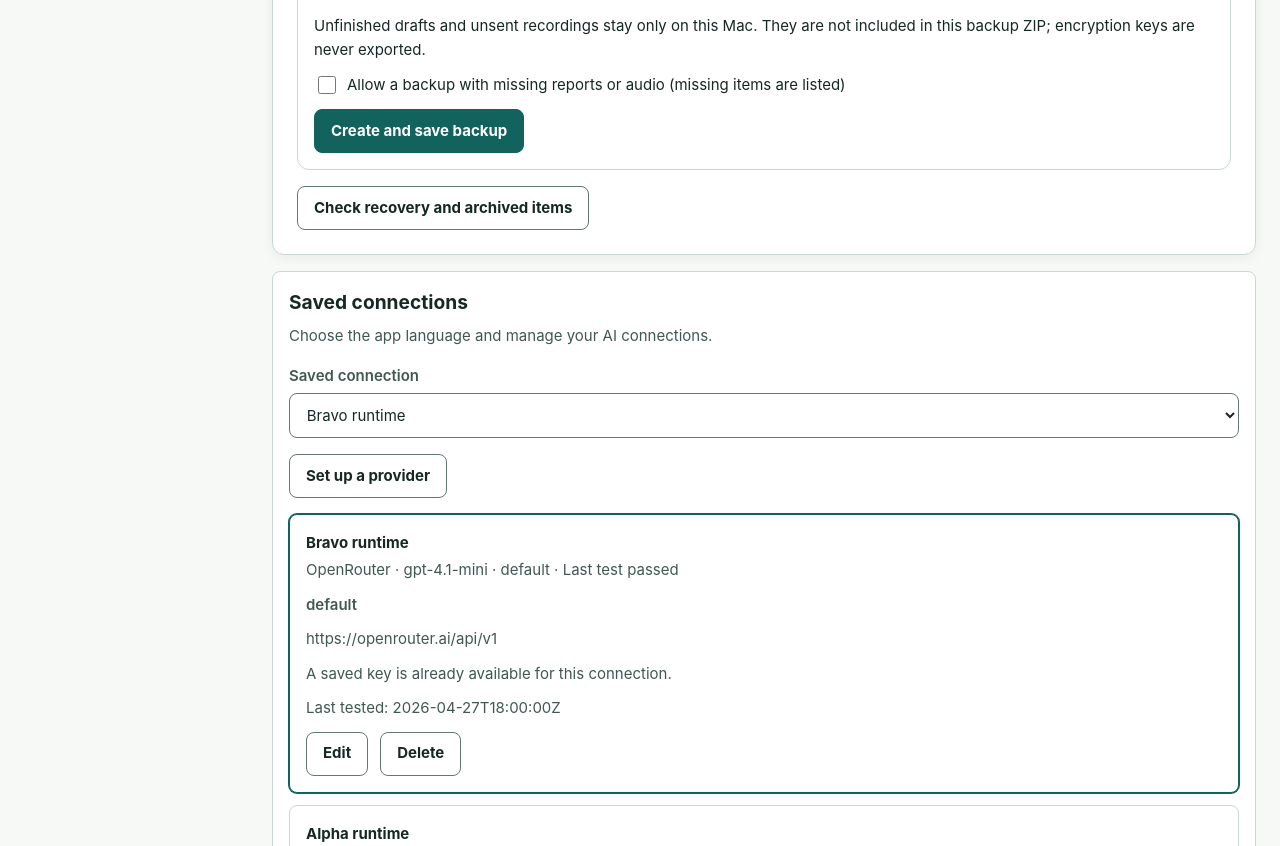
Test: Settings route › surfaces active selection failures without changing the stored active connection
The width and height of the screenshot is (1280, 846).
(page scrolled)
Select "Alpha runtime" in the dropdown with test id "settings.connection_id". click: (764, 416)
box: [289,393,1239,438]
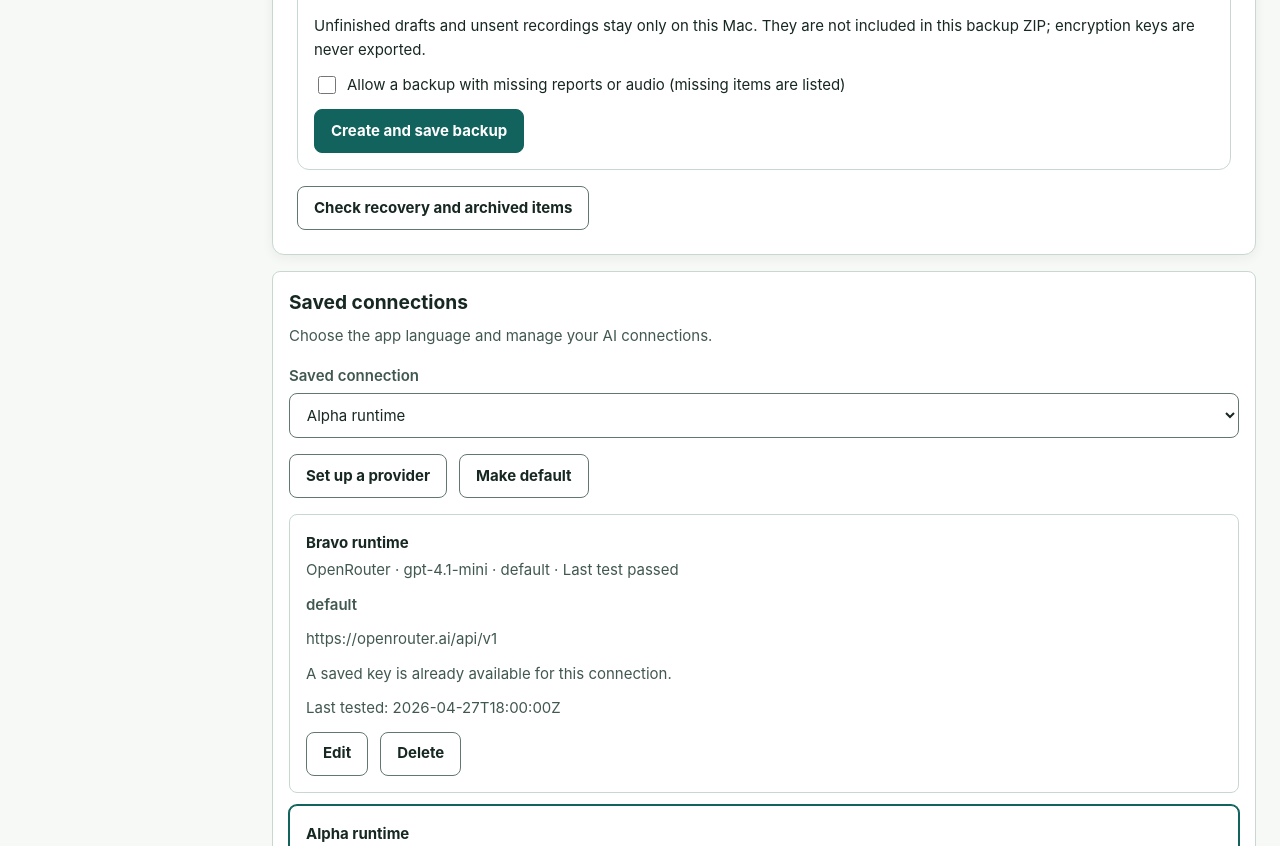
Click the button with test id "settings.connection_row_set_default". click: (524, 476)
box: [459,454,588,498]
(page scrolled)
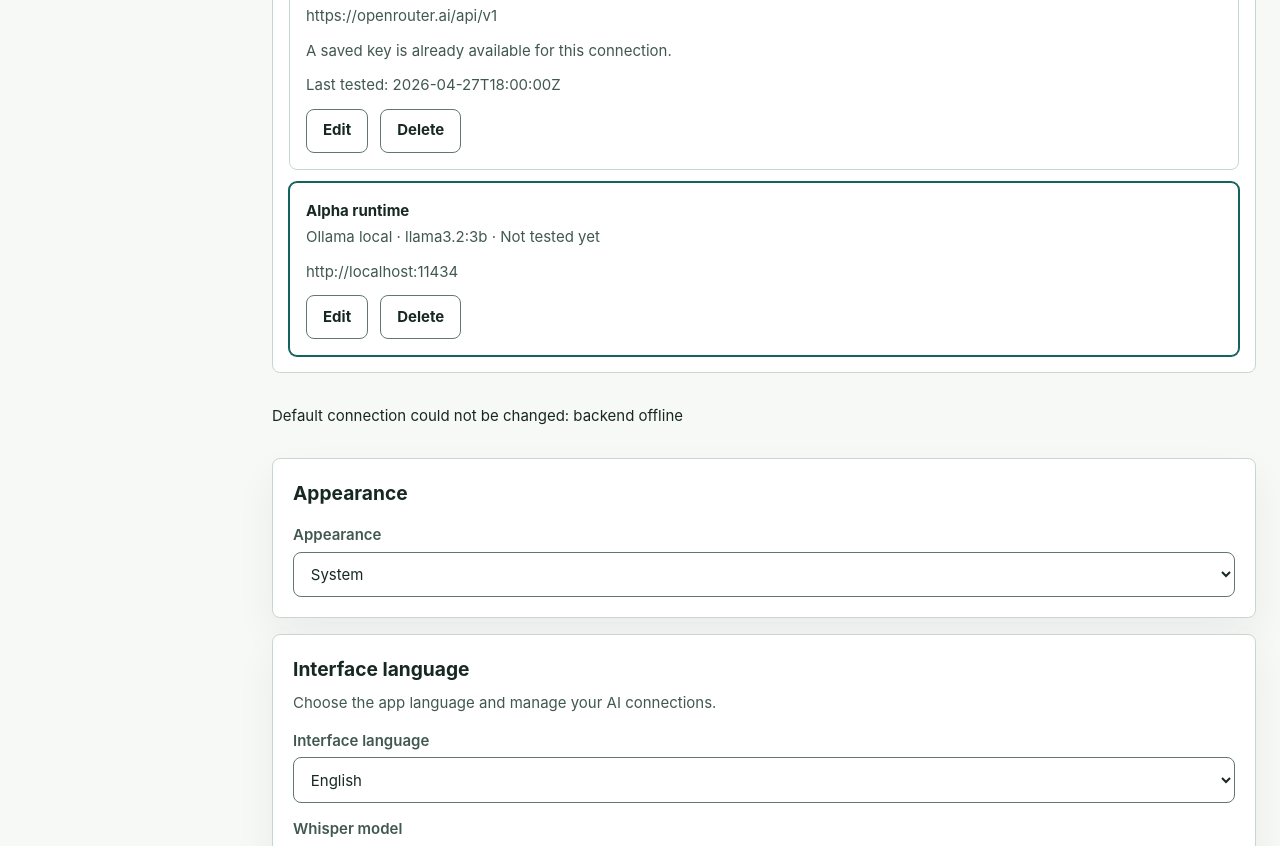
Expected: the text "Default connection could not be changed: backend offline" is shown, [272,406,683,425]
